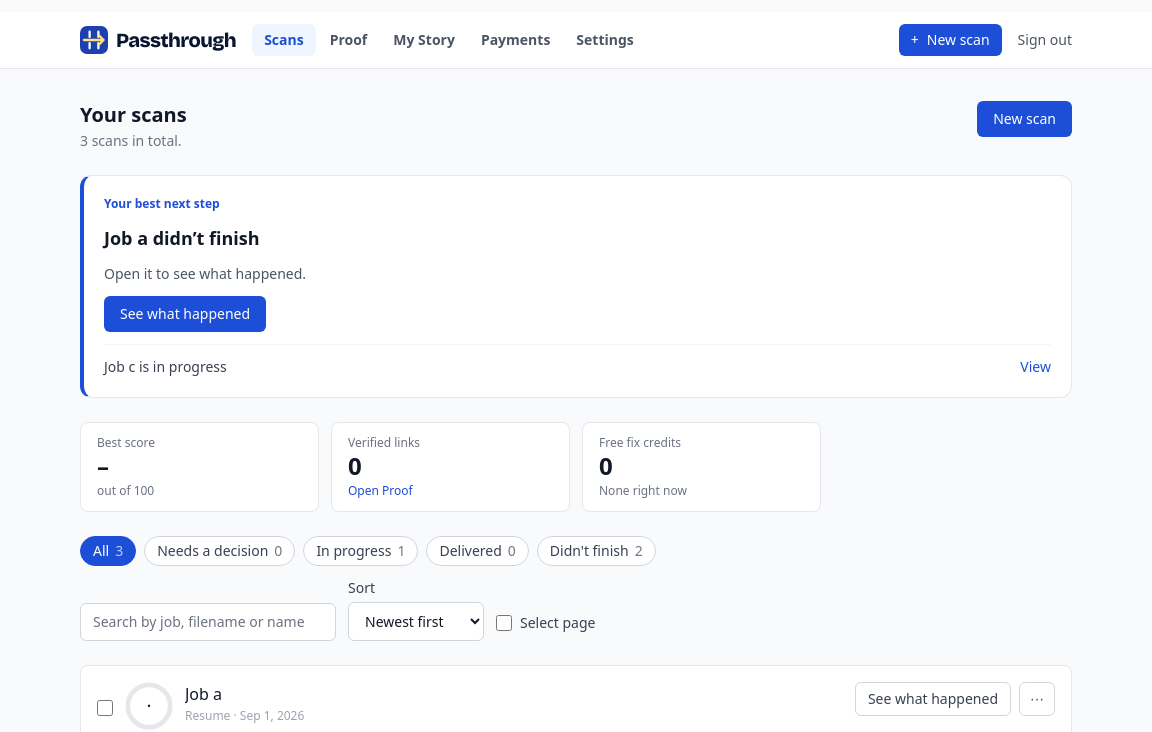
Scenario: hand-picked delete › changing the sort drops the selection
The image size is (1152, 732).
Expected: the link "Job a" is shown, [185, 683, 222, 705]
Click the checkbox named "Select Job a". click: (105,708)
box: [97, 700, 113, 716]
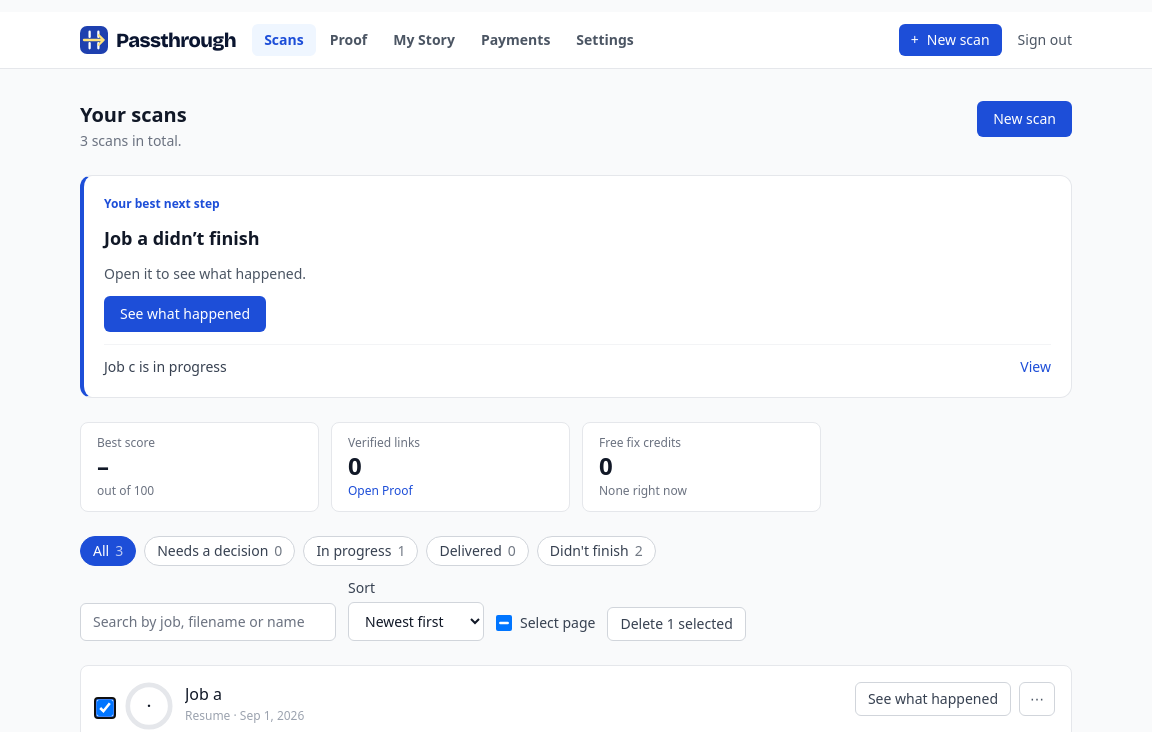
Expected: the button "Delete 1 selected" is shown, [608, 607, 746, 641]
Select "Oldest first" in the dropdown labelled "Sort". click: (416,622)
box: [348, 602, 484, 641]
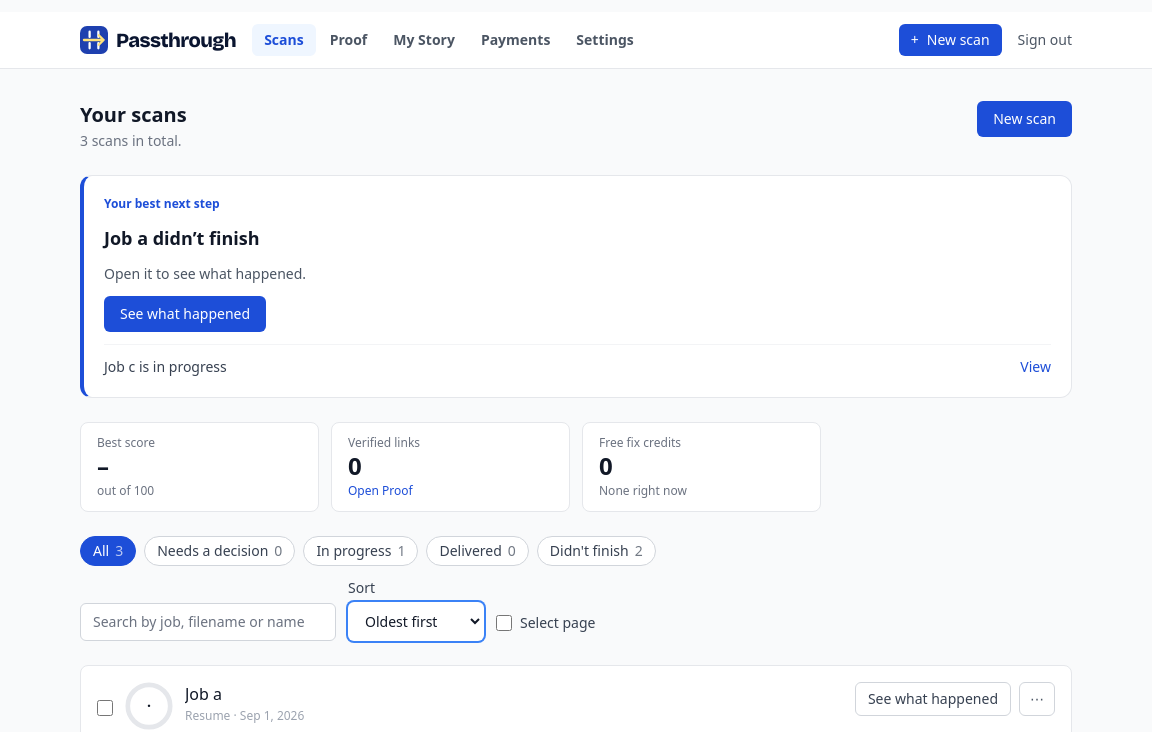
Expected: the button "selected" is gone
